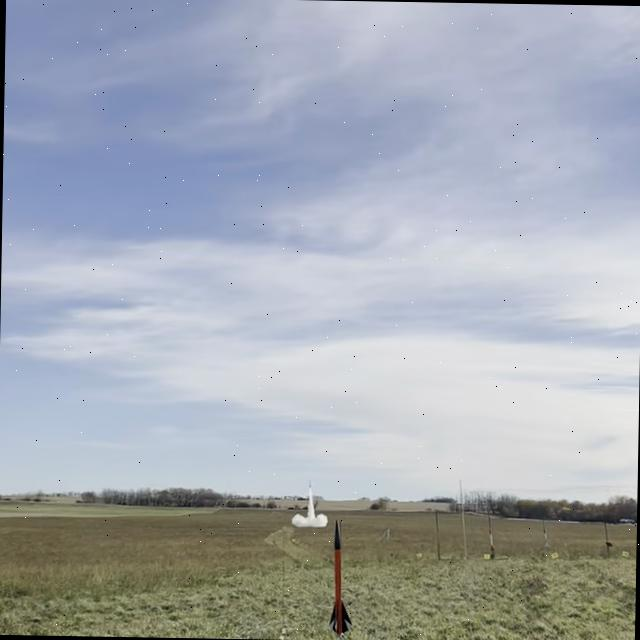smoke_trail_with_rocket: (292, 481, 326, 529)
